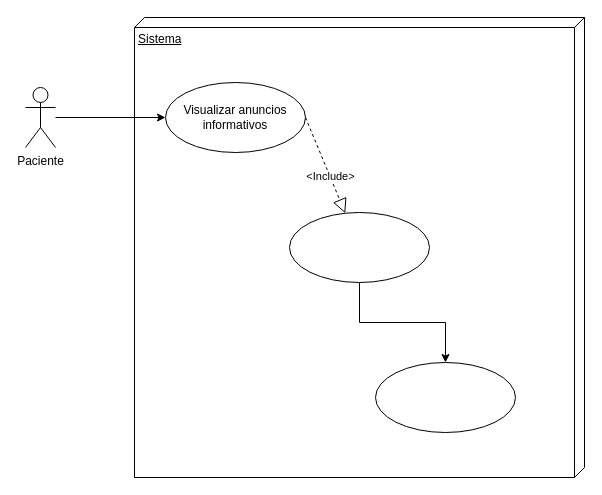
The diagram is 602 pixels wide and 495 high, and some of its shapes have lost their labels. Here are the shapes that lost their labels. From the top down, the centre of each, then its label:
At (359,247): "Gestión de anuncios informativos".
At (445,397): "Base de datos de anuncios informativos".
